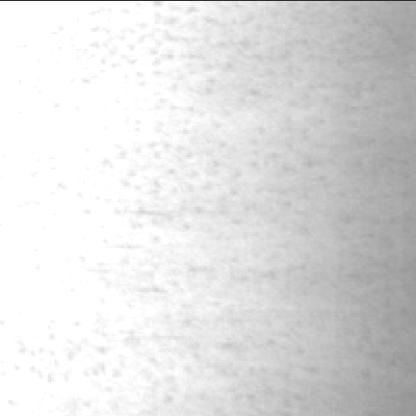pitted_surface: (6, 0, 416, 408)
